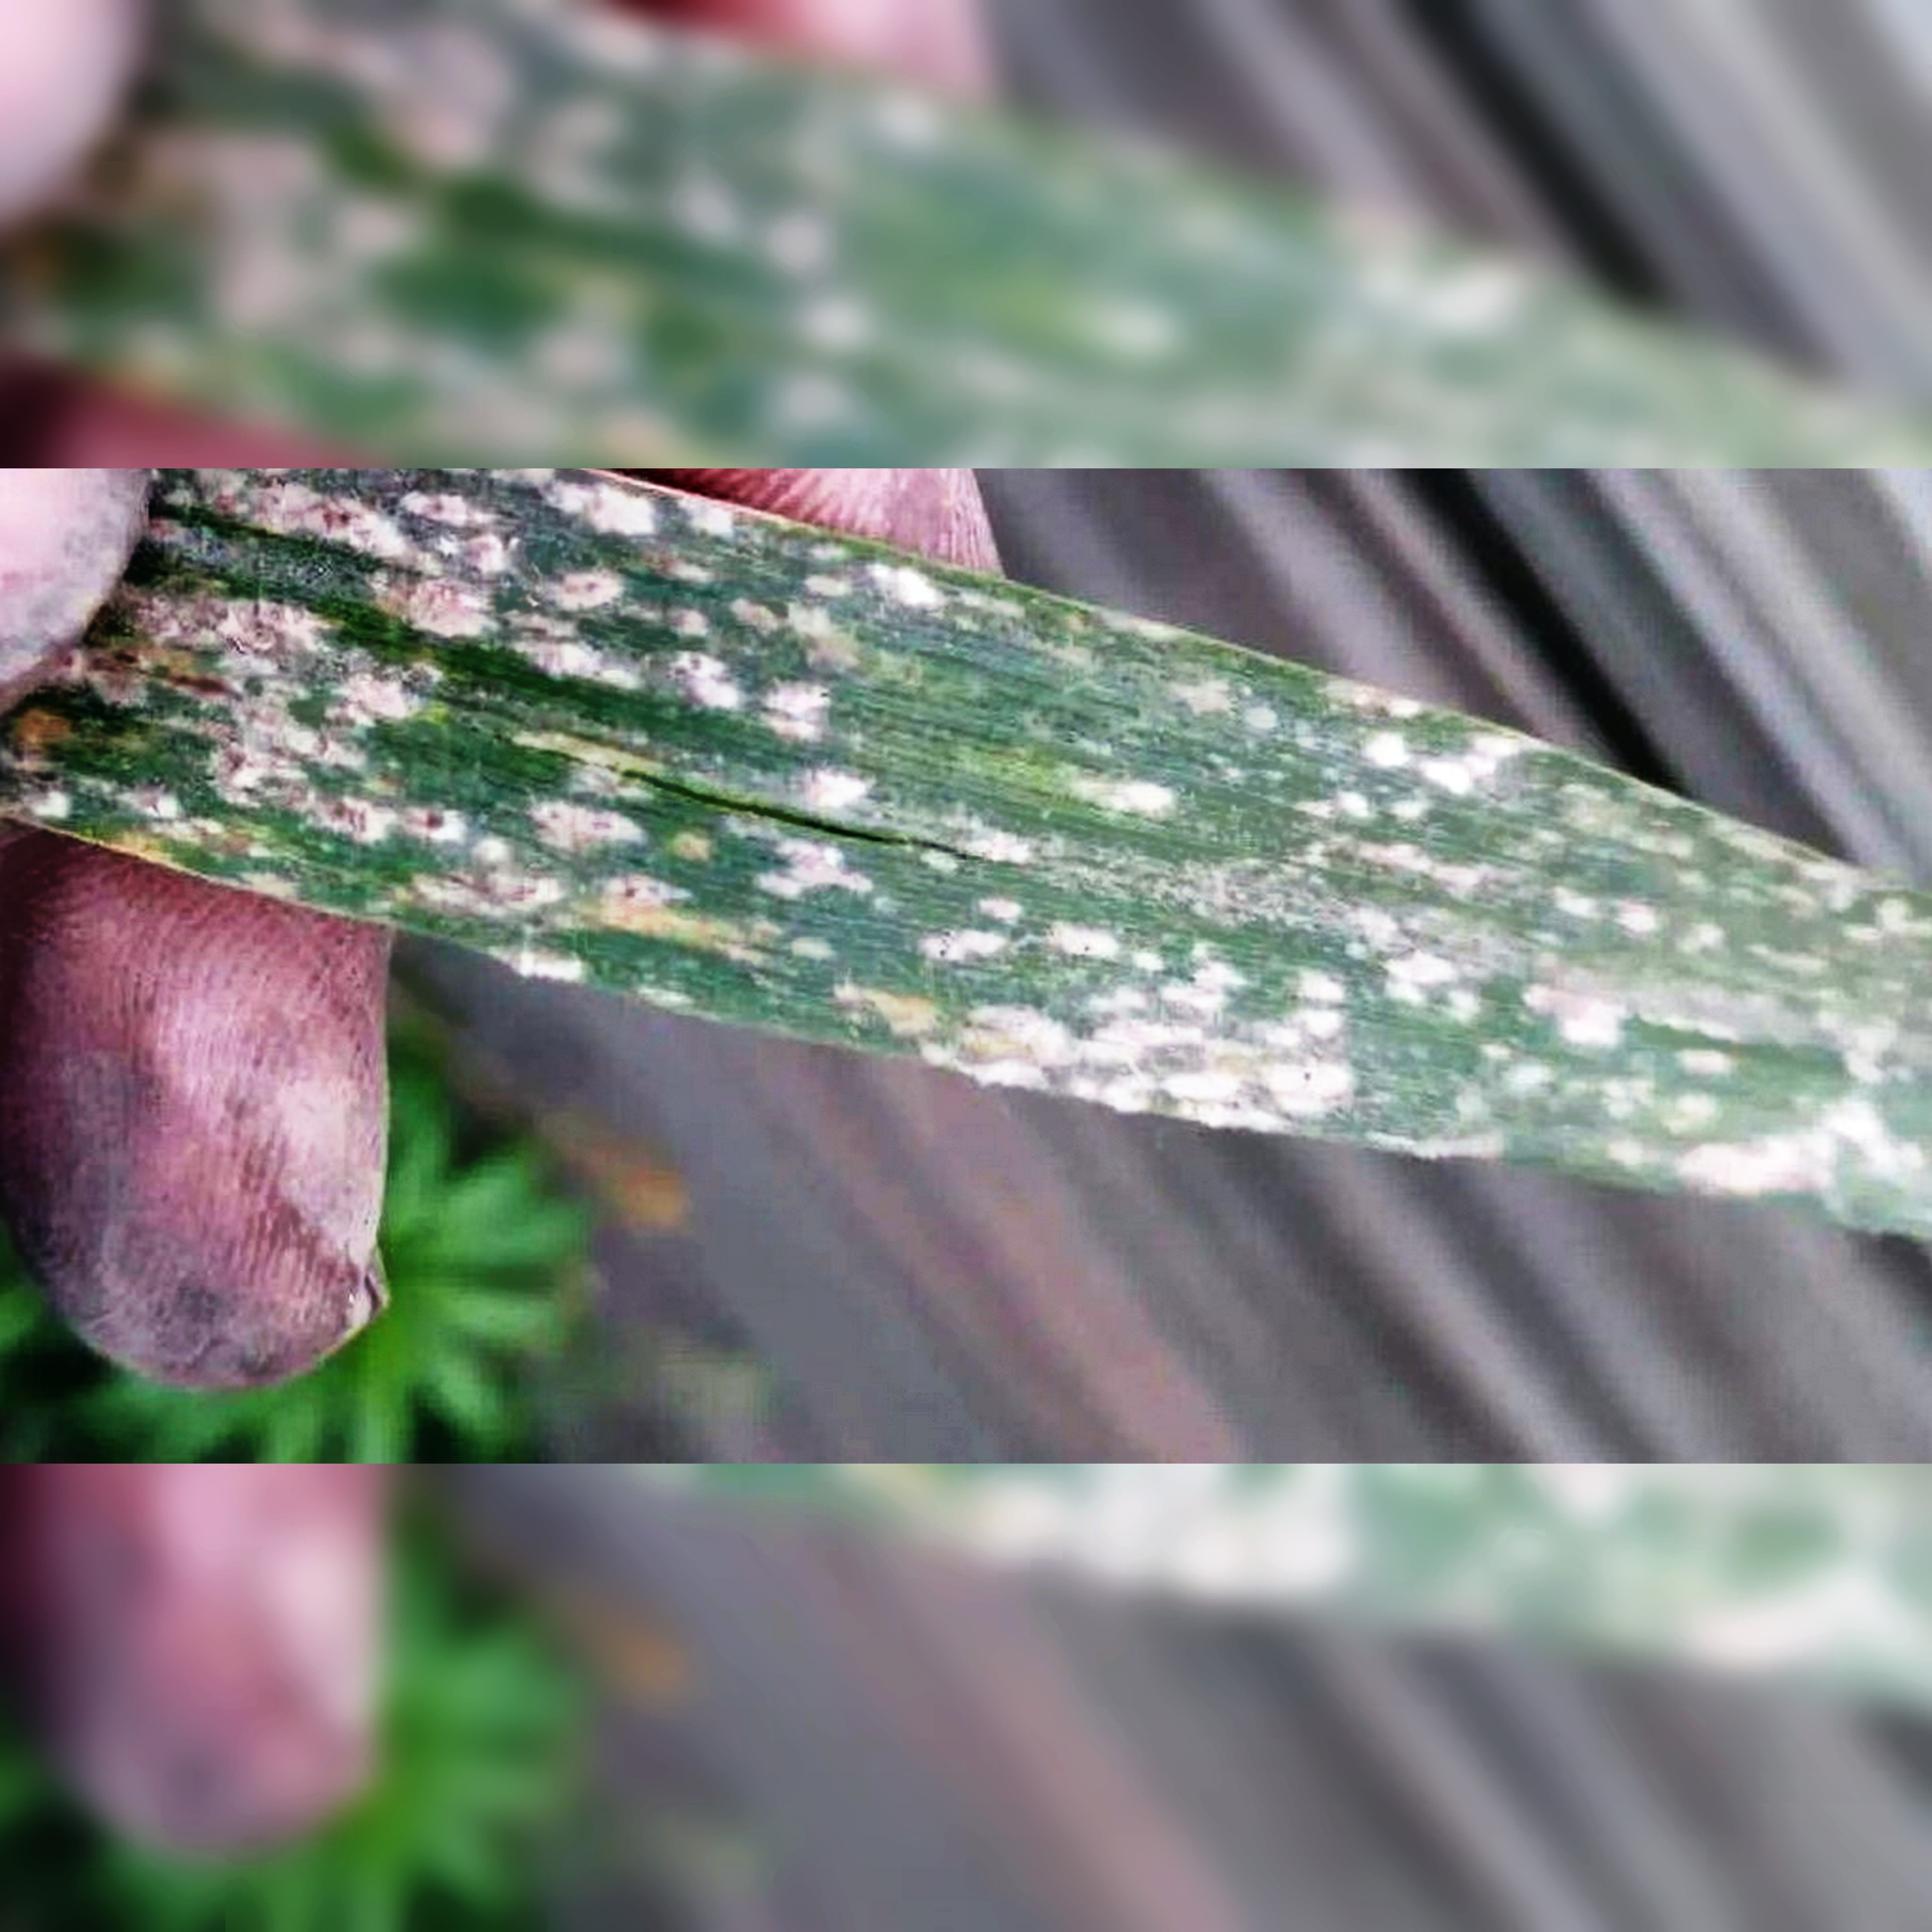Powdery Mildew: (92, 464, 1468, 1161)
